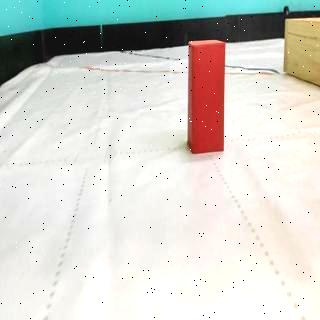redbox: (186, 39, 226, 154)
